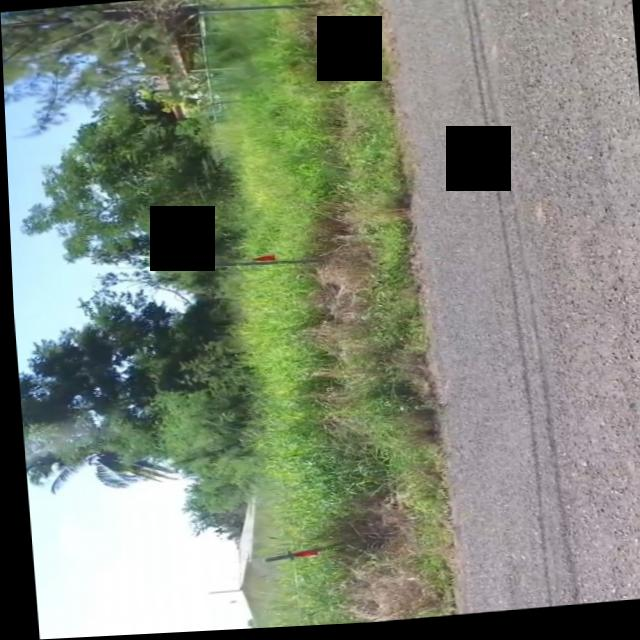Pole: (191, 250, 325, 274), (259, 541, 347, 568), (195, 0, 304, 20)
